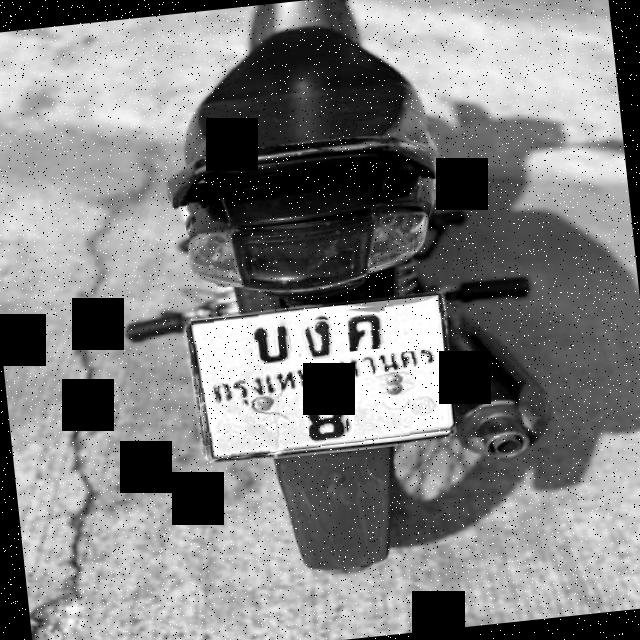letters: (305, 395, 350, 445), (345, 305, 388, 351), (250, 319, 292, 365), (299, 316, 342, 360)
license-plate: (191, 294, 455, 459)
province: (202, 347, 450, 418)
